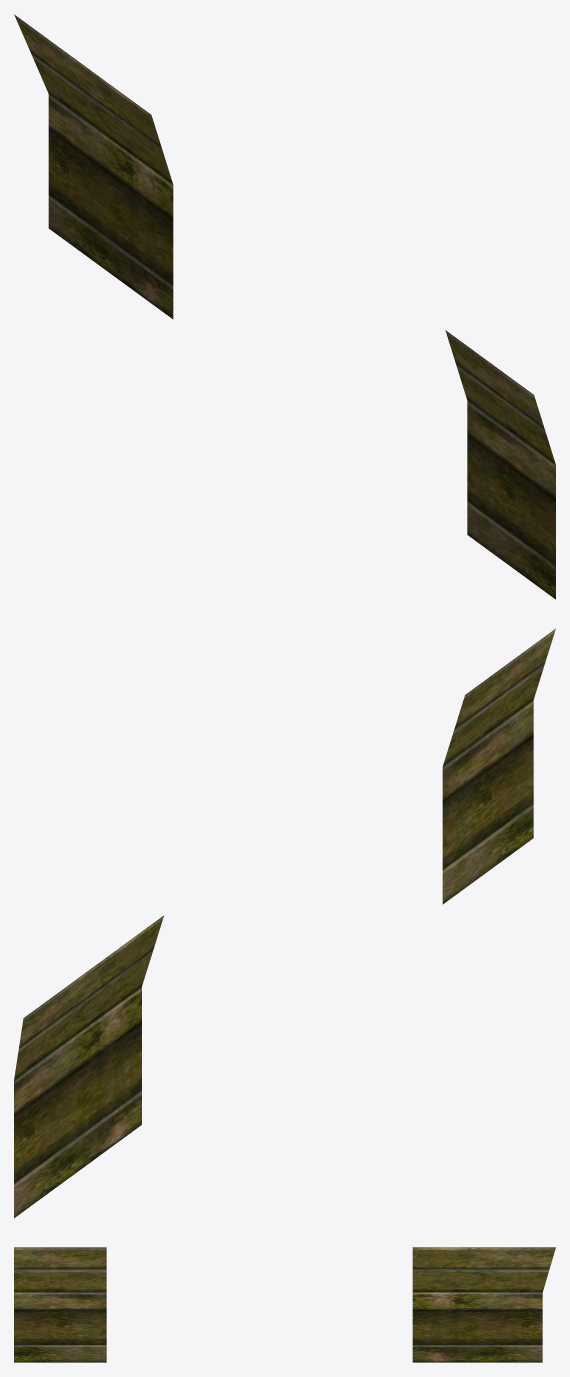
File: OVERHILL_A_01_OBJECT127.fbx
3 views of the same model, one above another, from view 1: azimuth 30°, elevation 25°; view 2: azimuth 150°, elevation 25°; view 3: azimuth 270°, elevation 25° (orthographic). The views are drawn at different scales.
Visible parts, largest first — view 1: OVERHILL_A_01_OBJECT127; view 2: OVERHILL_A_01_OBJECT127; view 3: OVERHILL_A_01_OBJECT127.
Part boxes in pixels (bbox=[...]): OVERHILL_A_01_OBJECT127: bbox=[14, 14, 555, 599]; OVERHILL_A_01_OBJECT127: bbox=[14, 628, 555, 1218]; OVERHILL_A_01_OBJECT127: bbox=[14, 1247, 555, 1362].
Bounding box in the file's own units: 1348 × 12361 × 55433.
Materials: 2 (2 with a texture image).
